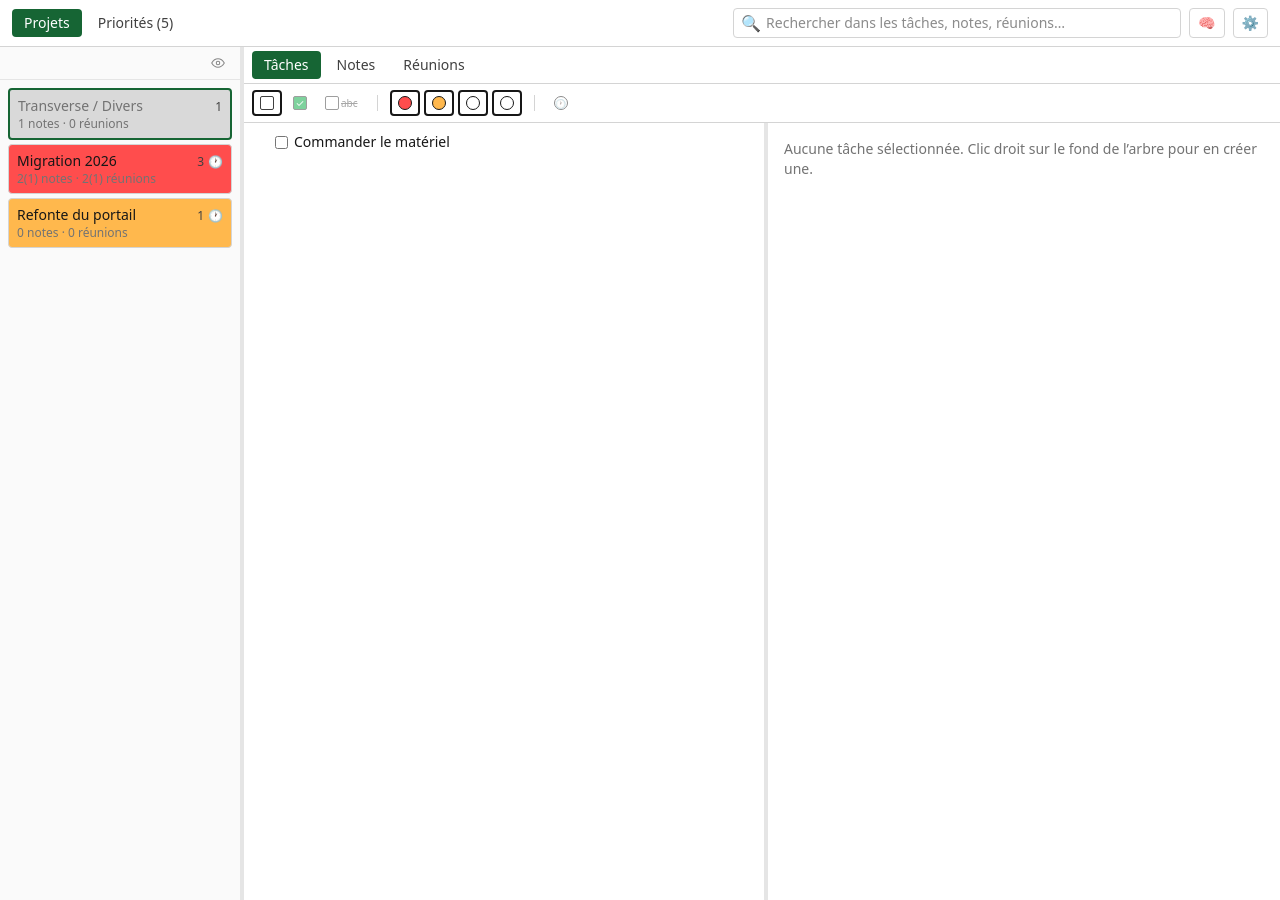
Test: Liste des projets (§2.1) › cache le projet « Ancien portail » par défaut, et le montre œil ouvert
Expected: the navigation bar named "Projets" is shown, [0,80,240,899]
Expected: the text "Ancien portail" is not shown
Click the button named "Afficher les éléments cachés". click: (218, 63)
box: [204,51,232,75]
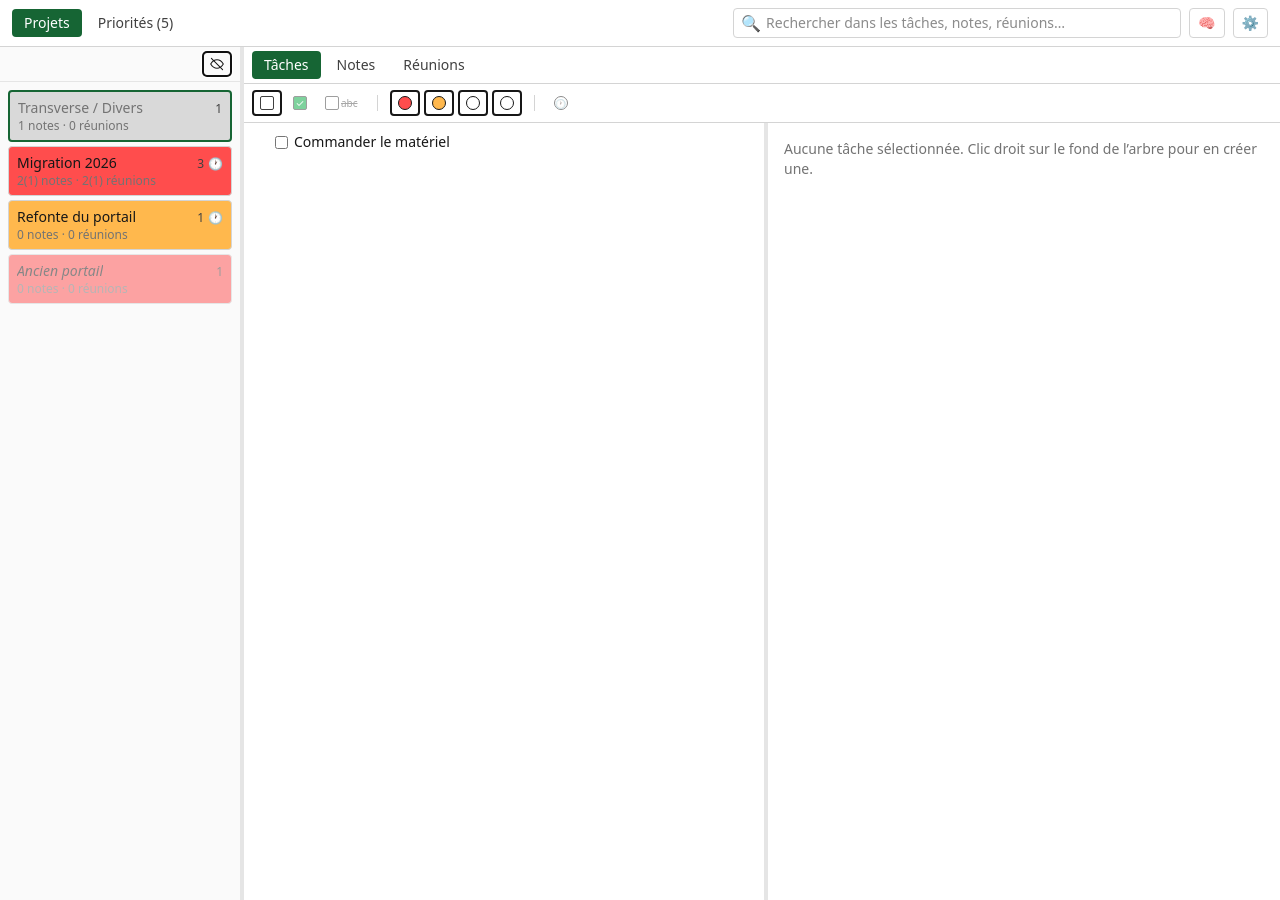
Expected: the button named "Masquer les éléments cachés" is shown, [202,51,232,77]
